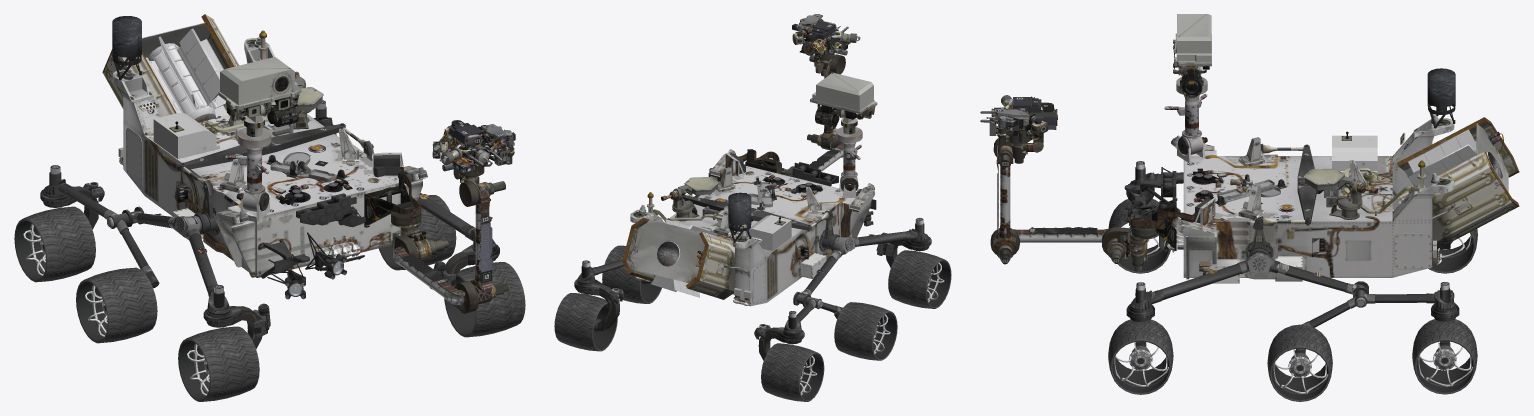
File: curiosity.glb
3 renders of one model, left to right at view 1: azimuth 30°, elevation 25°; view 2: azimuth 150°, elevation 25°; view 3: azimuth 270°, elevation 25°, orthographic. The views are drawn at different scales.
Visible parts, largest first — view 1: Curiosity.1; view 2: Curiosity.1; view 3: Curiosity.1.
Part boxes in pixels (box(x1,y1,x2,y2)): Curiosity.1: box(14, 14, 525, 401); Curiosity.1: box(554, 14, 951, 401); Curiosity.1: box(980, 14, 1519, 401).
Bounding box in the file's own units: 2.78 × 2.21 × 4.
Materials: 9 (7 with a texture image).
